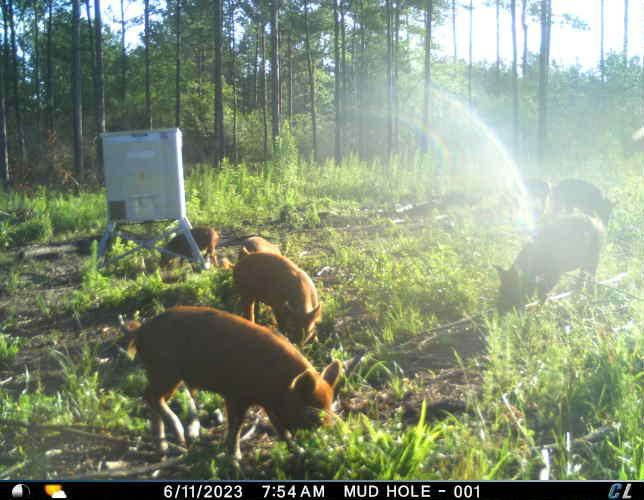Hog: (114, 301, 345, 463), (490, 214, 609, 310), (228, 251, 323, 347), (158, 223, 227, 273), (550, 177, 621, 218), (519, 172, 551, 211), (237, 234, 286, 256)
